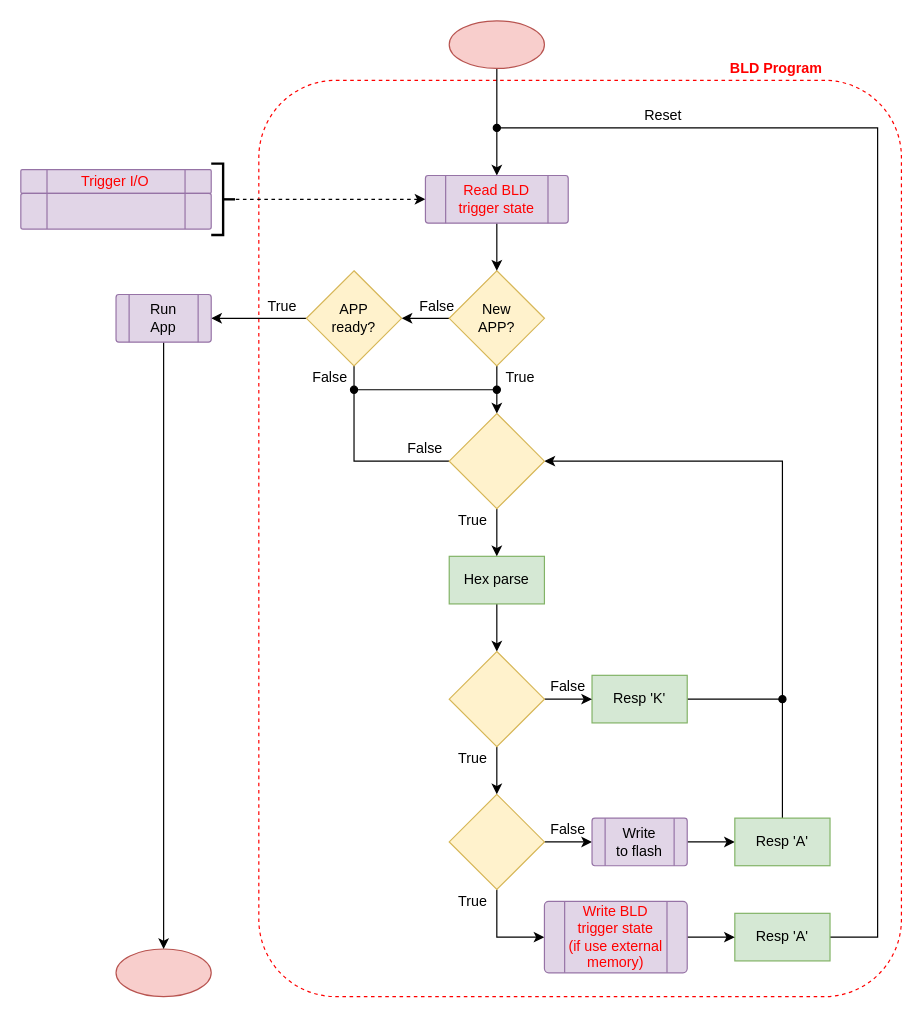
Some shapes in this 922 by 1017 pixel diagram are drawn without their labels. Each missing label, with the box of its shape:
BLD trigger state in external memmory: (20, 192, 211, 229)
Correct data?: (448, 650, 544, 747)
End: (115, 948, 211, 997)
EOF?: (448, 793, 544, 890)
RX ready?: (448, 412, 544, 509)
Start: (448, 20, 544, 68)
